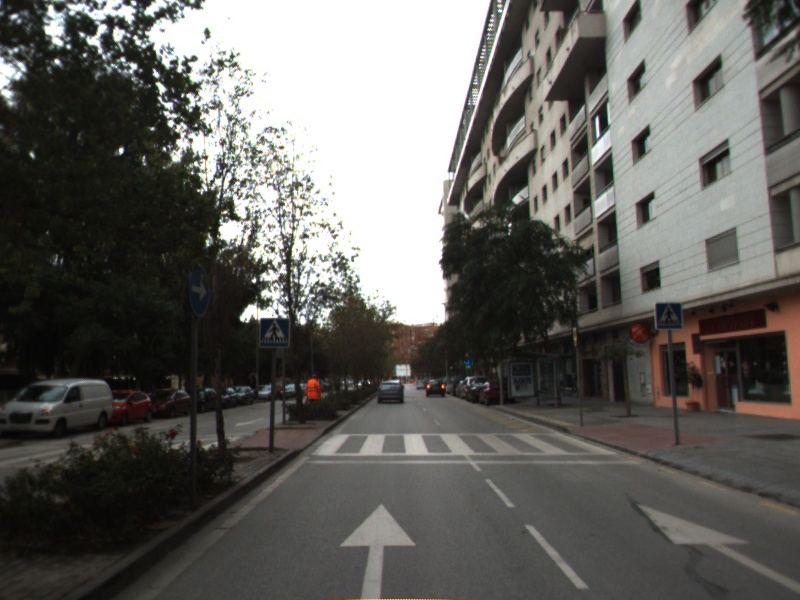STRAIGHT: (633, 499, 800, 593), (337, 500, 419, 600)
